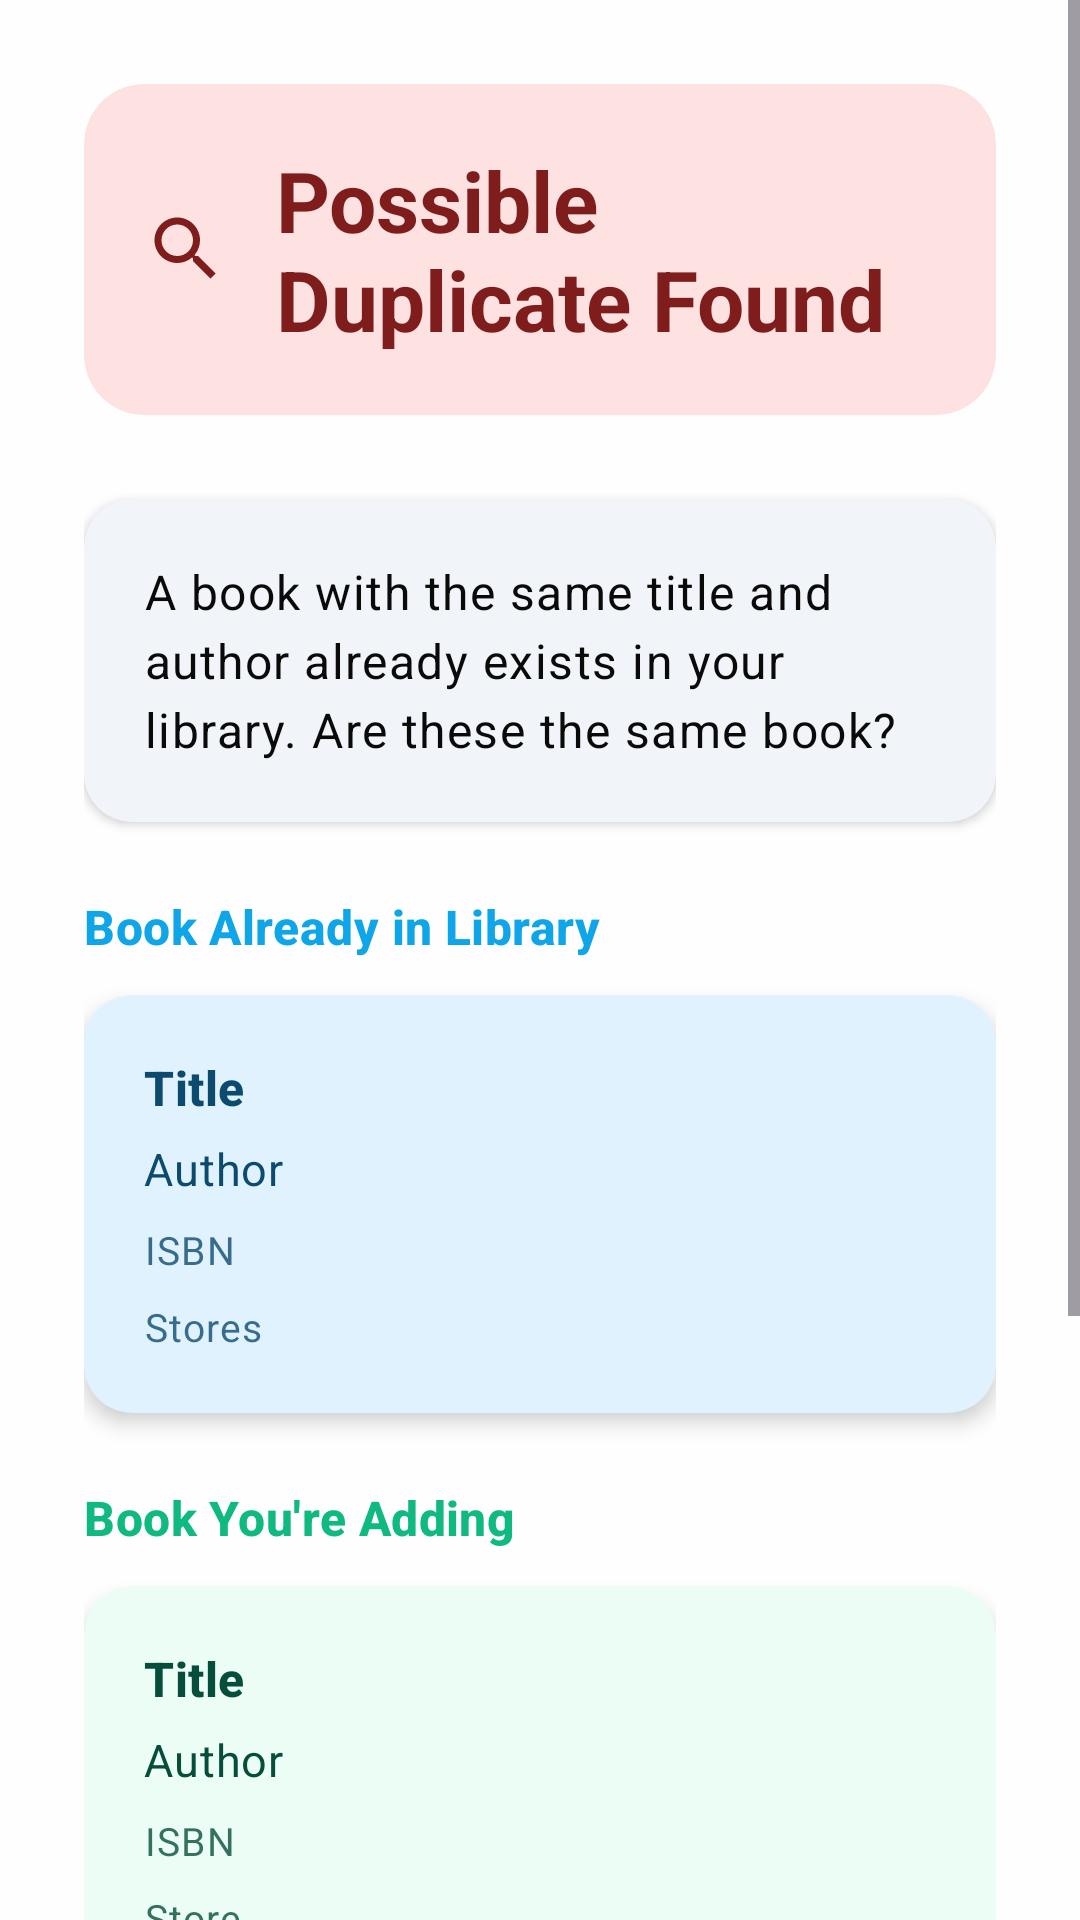

Where to tap for icons on this 1080×1920 app screen, as [x,y]:
search: [185,248]
